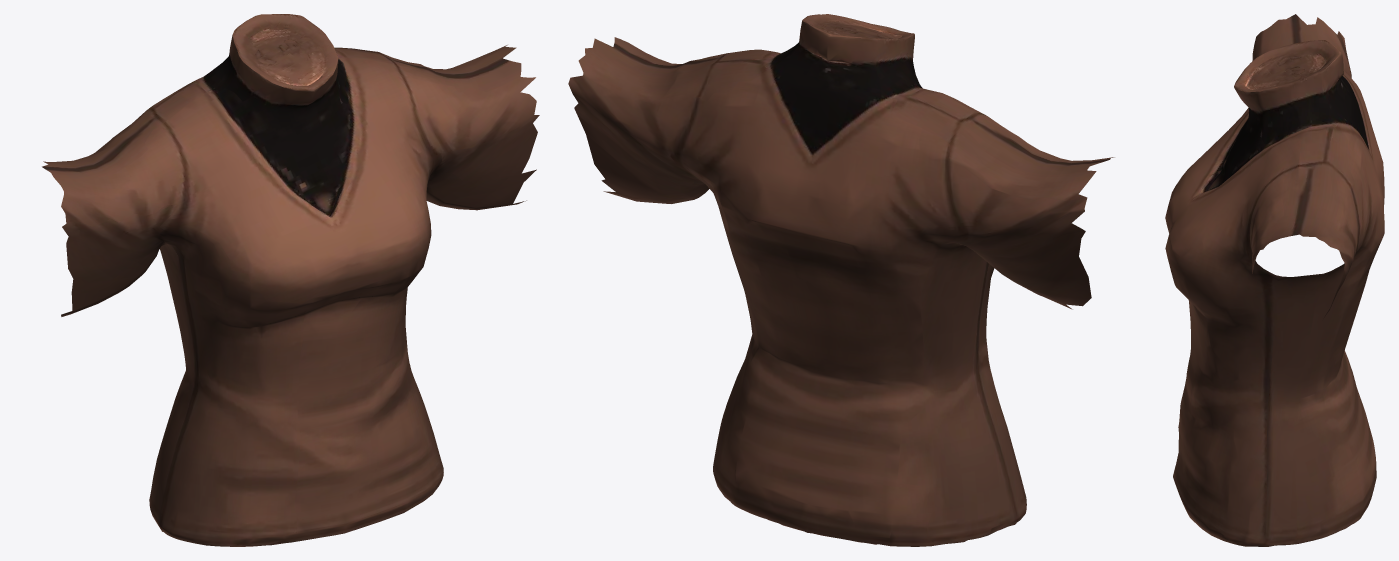
The model's file is berserk_f_shirt.glb.
The picture shows the model from 3 angles, left to right: view 1: azimuth 30°, elevation 25°; view 2: azimuth 150°, elevation 25°; view 3: azimuth 270°, elevation 25°; orthographic projection. The views are drawn at different scales.
Parts seen in each view (by area): view 1: world; view 2: world; view 3: world.
Boxes of the visible parts, <box> form: world: <box>42,14,539,546</box>; world: <box>568,14,1114,546</box>; world: <box>1165,14,1384,546</box>.
Size of the model in its own units: 0.5986 by 0.54 by 0.2475.
1 material, 1 textured.
